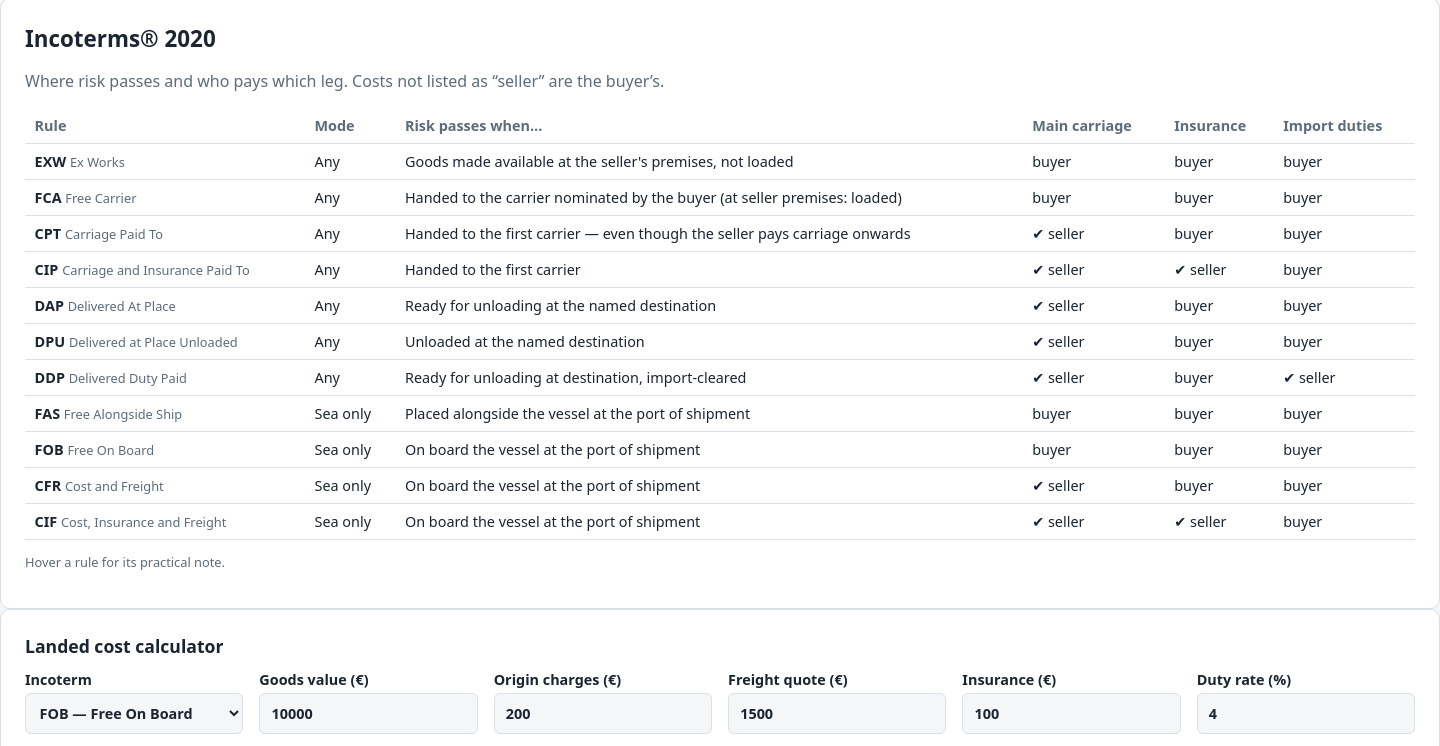
Test: LogisticsPage › recomputes landed cost when the Incoterm moves freight into the supplier price
This screenshot has width=1440, height=746.
Select "CIF — Cost, Insurance and Freight" in the dropdown labelled "Incoterm" at (134, 714), box [25,693,243,734]
(page scrolled)
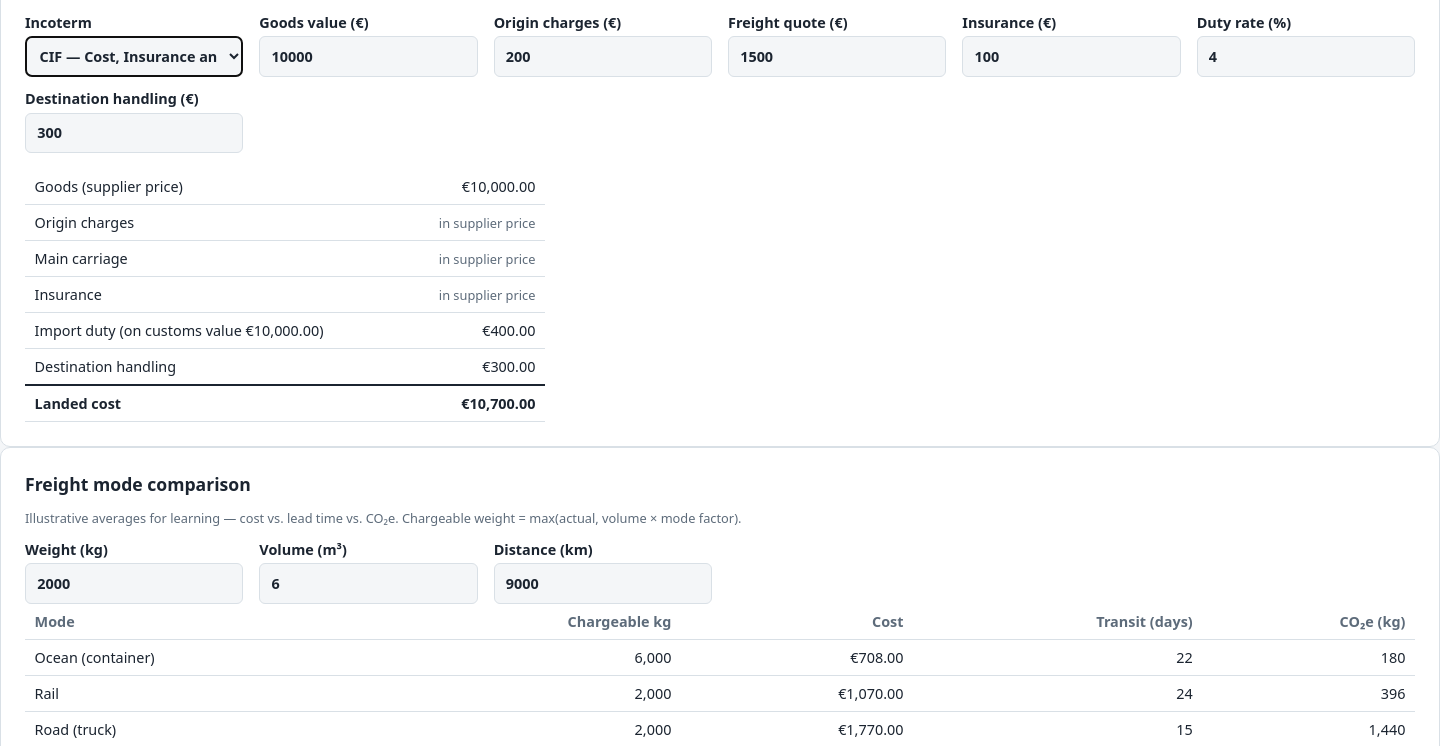
Check: the text "€10,700.00" is shown, box [403,385,545,422]
Check: the text "in supplier price" is shown 3 times, box [439,214,535,232]; [439,250,535,268]; [439,286,535,304]
